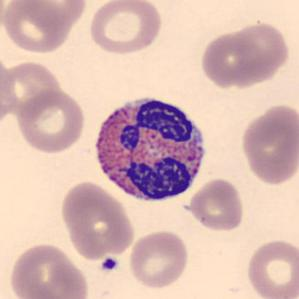Eosinophil: (89, 88, 212, 209)
Platelets: (100, 256, 119, 274)
RBC: (193, 32, 295, 131), (58, 179, 136, 261), (237, 100, 299, 188), (15, 87, 87, 155), (7, 241, 90, 299), (224, 19, 292, 86), (87, 0, 164, 56), (198, 27, 266, 90), (127, 228, 190, 290), (0, 0, 72, 54), (186, 176, 246, 233), (244, 236, 298, 299), (20, 0, 88, 29)
